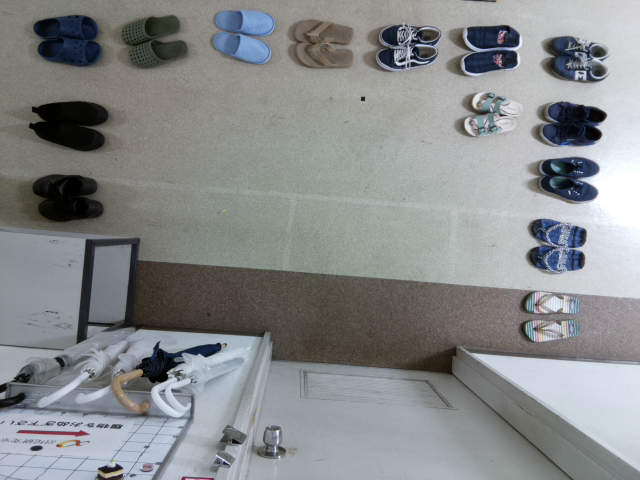Copy of Copy of Copy of Copy of Copy of Copy of Copy of Copy of Copy of Copy of: (370, 38, 442, 75), (286, 14, 359, 50), (286, 36, 359, 72), (373, 17, 446, 53), (456, 19, 529, 55), (455, 41, 528, 77), (452, 106, 525, 141), (539, 93, 612, 128), (539, 29, 611, 64), (543, 50, 615, 85), (535, 117, 607, 152), (533, 148, 605, 183), (532, 171, 604, 206), (522, 212, 594, 247), (520, 244, 592, 279), (519, 285, 591, 320), (516, 315, 588, 350), (461, 88, 531, 118)
Copy of Copy of Copy of Copy of Copy of Copy of Copy of Copy of Copy of shoe: (204, 28, 277, 64)
Copy of Copy of Copy of Copy of Copy of Copy of Copy of Copy of shoe: (208, 3, 281, 40)
Copy of Copy of Copy of Copy of Copy of Copy of Copy of shoe: (123, 33, 196, 69)
Copy of Copy of Copy of Copy of Copy of Copy of shoe: (116, 9, 189, 45)
Copy of Copy of Copy of Copy of Copy of shoe: (30, 8, 103, 44)
Copy of Copy of Copy of Copy of Copy of umbrella: (1, 321, 136, 411)
Copy of Copy of Copy of Copy of shoe: (32, 33, 105, 69)
Copy of Copy of Copy of Copy of umbrella: (28, 325, 147, 414)
Copy of Copy of Copy of shoe: (27, 91, 117, 127)
Copy of Copy of Copy of umbrella: (71, 326, 155, 416)
Copy of Copy of shoe: (27, 115, 108, 150)
Copy of Copy of umbrella: (110, 336, 229, 417)
Copy of shoe: (31, 191, 113, 227)
Copy of umbrella: (166, 351, 254, 424)
shoe: (24, 167, 106, 203)
umbrella: (150, 333, 255, 425)
